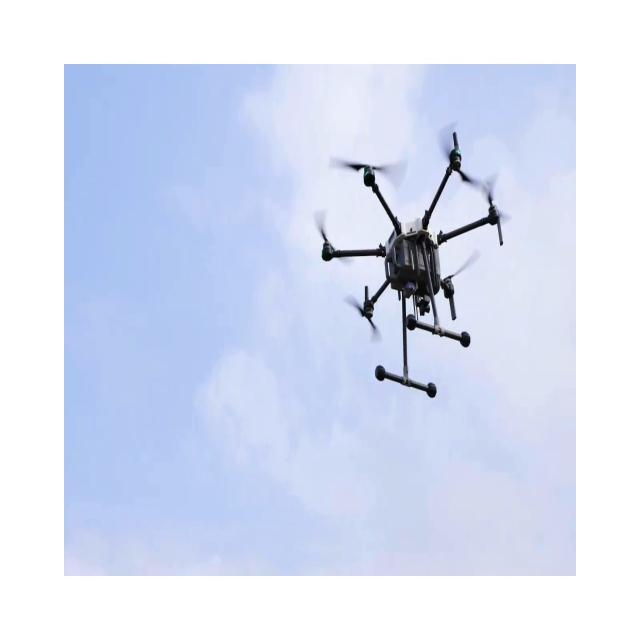drone: (313, 129, 511, 399)
